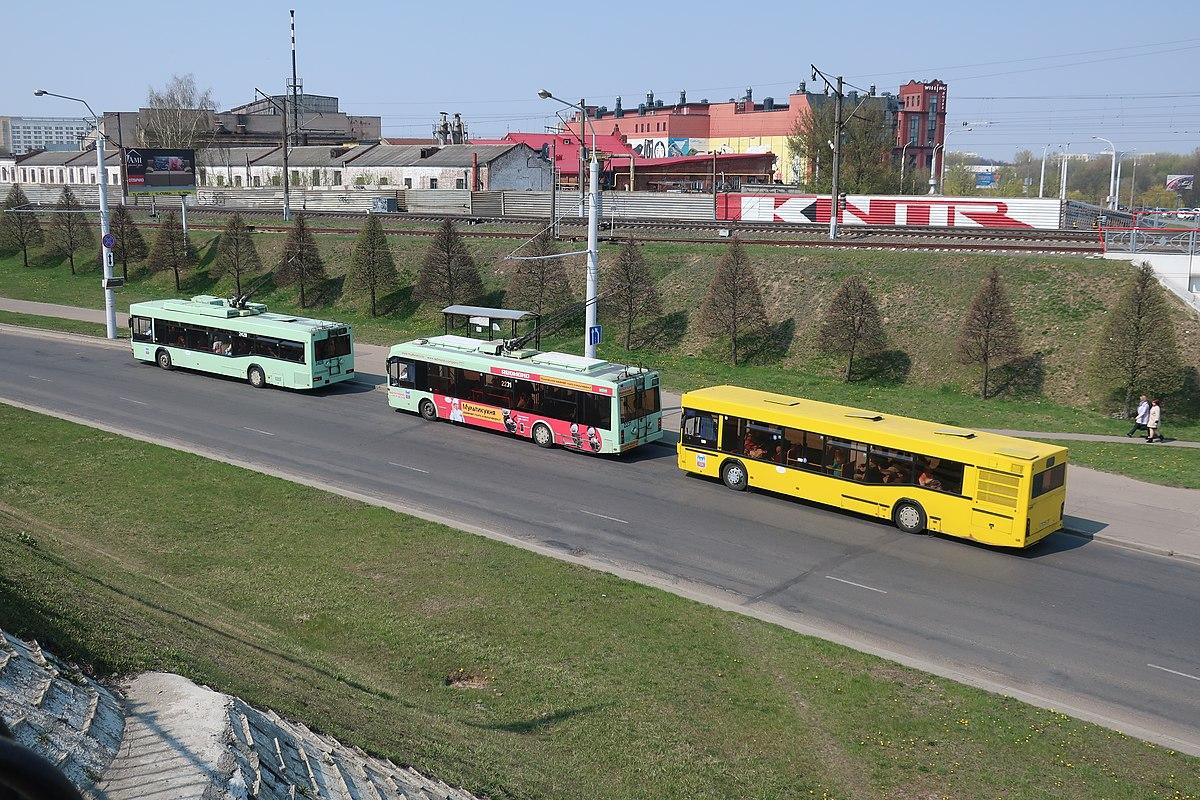bus: (678, 383, 1069, 552)
